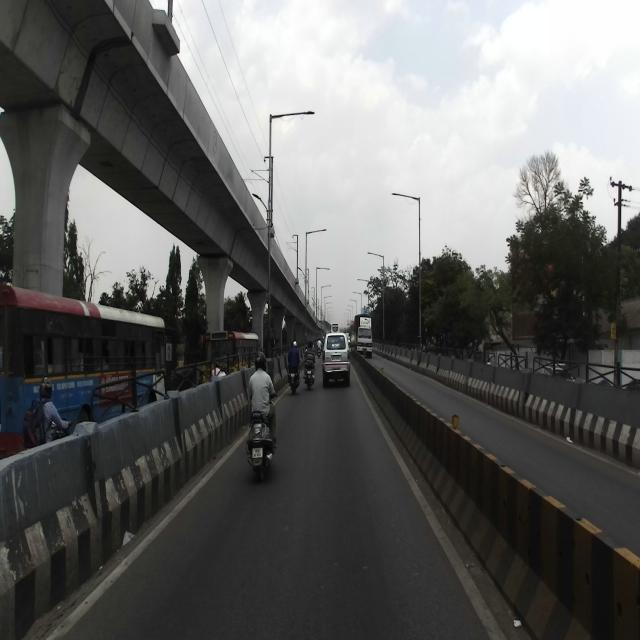bus: (0, 282, 167, 461)
car: (322, 331, 350, 385)
scooter: (245, 389, 279, 483)
